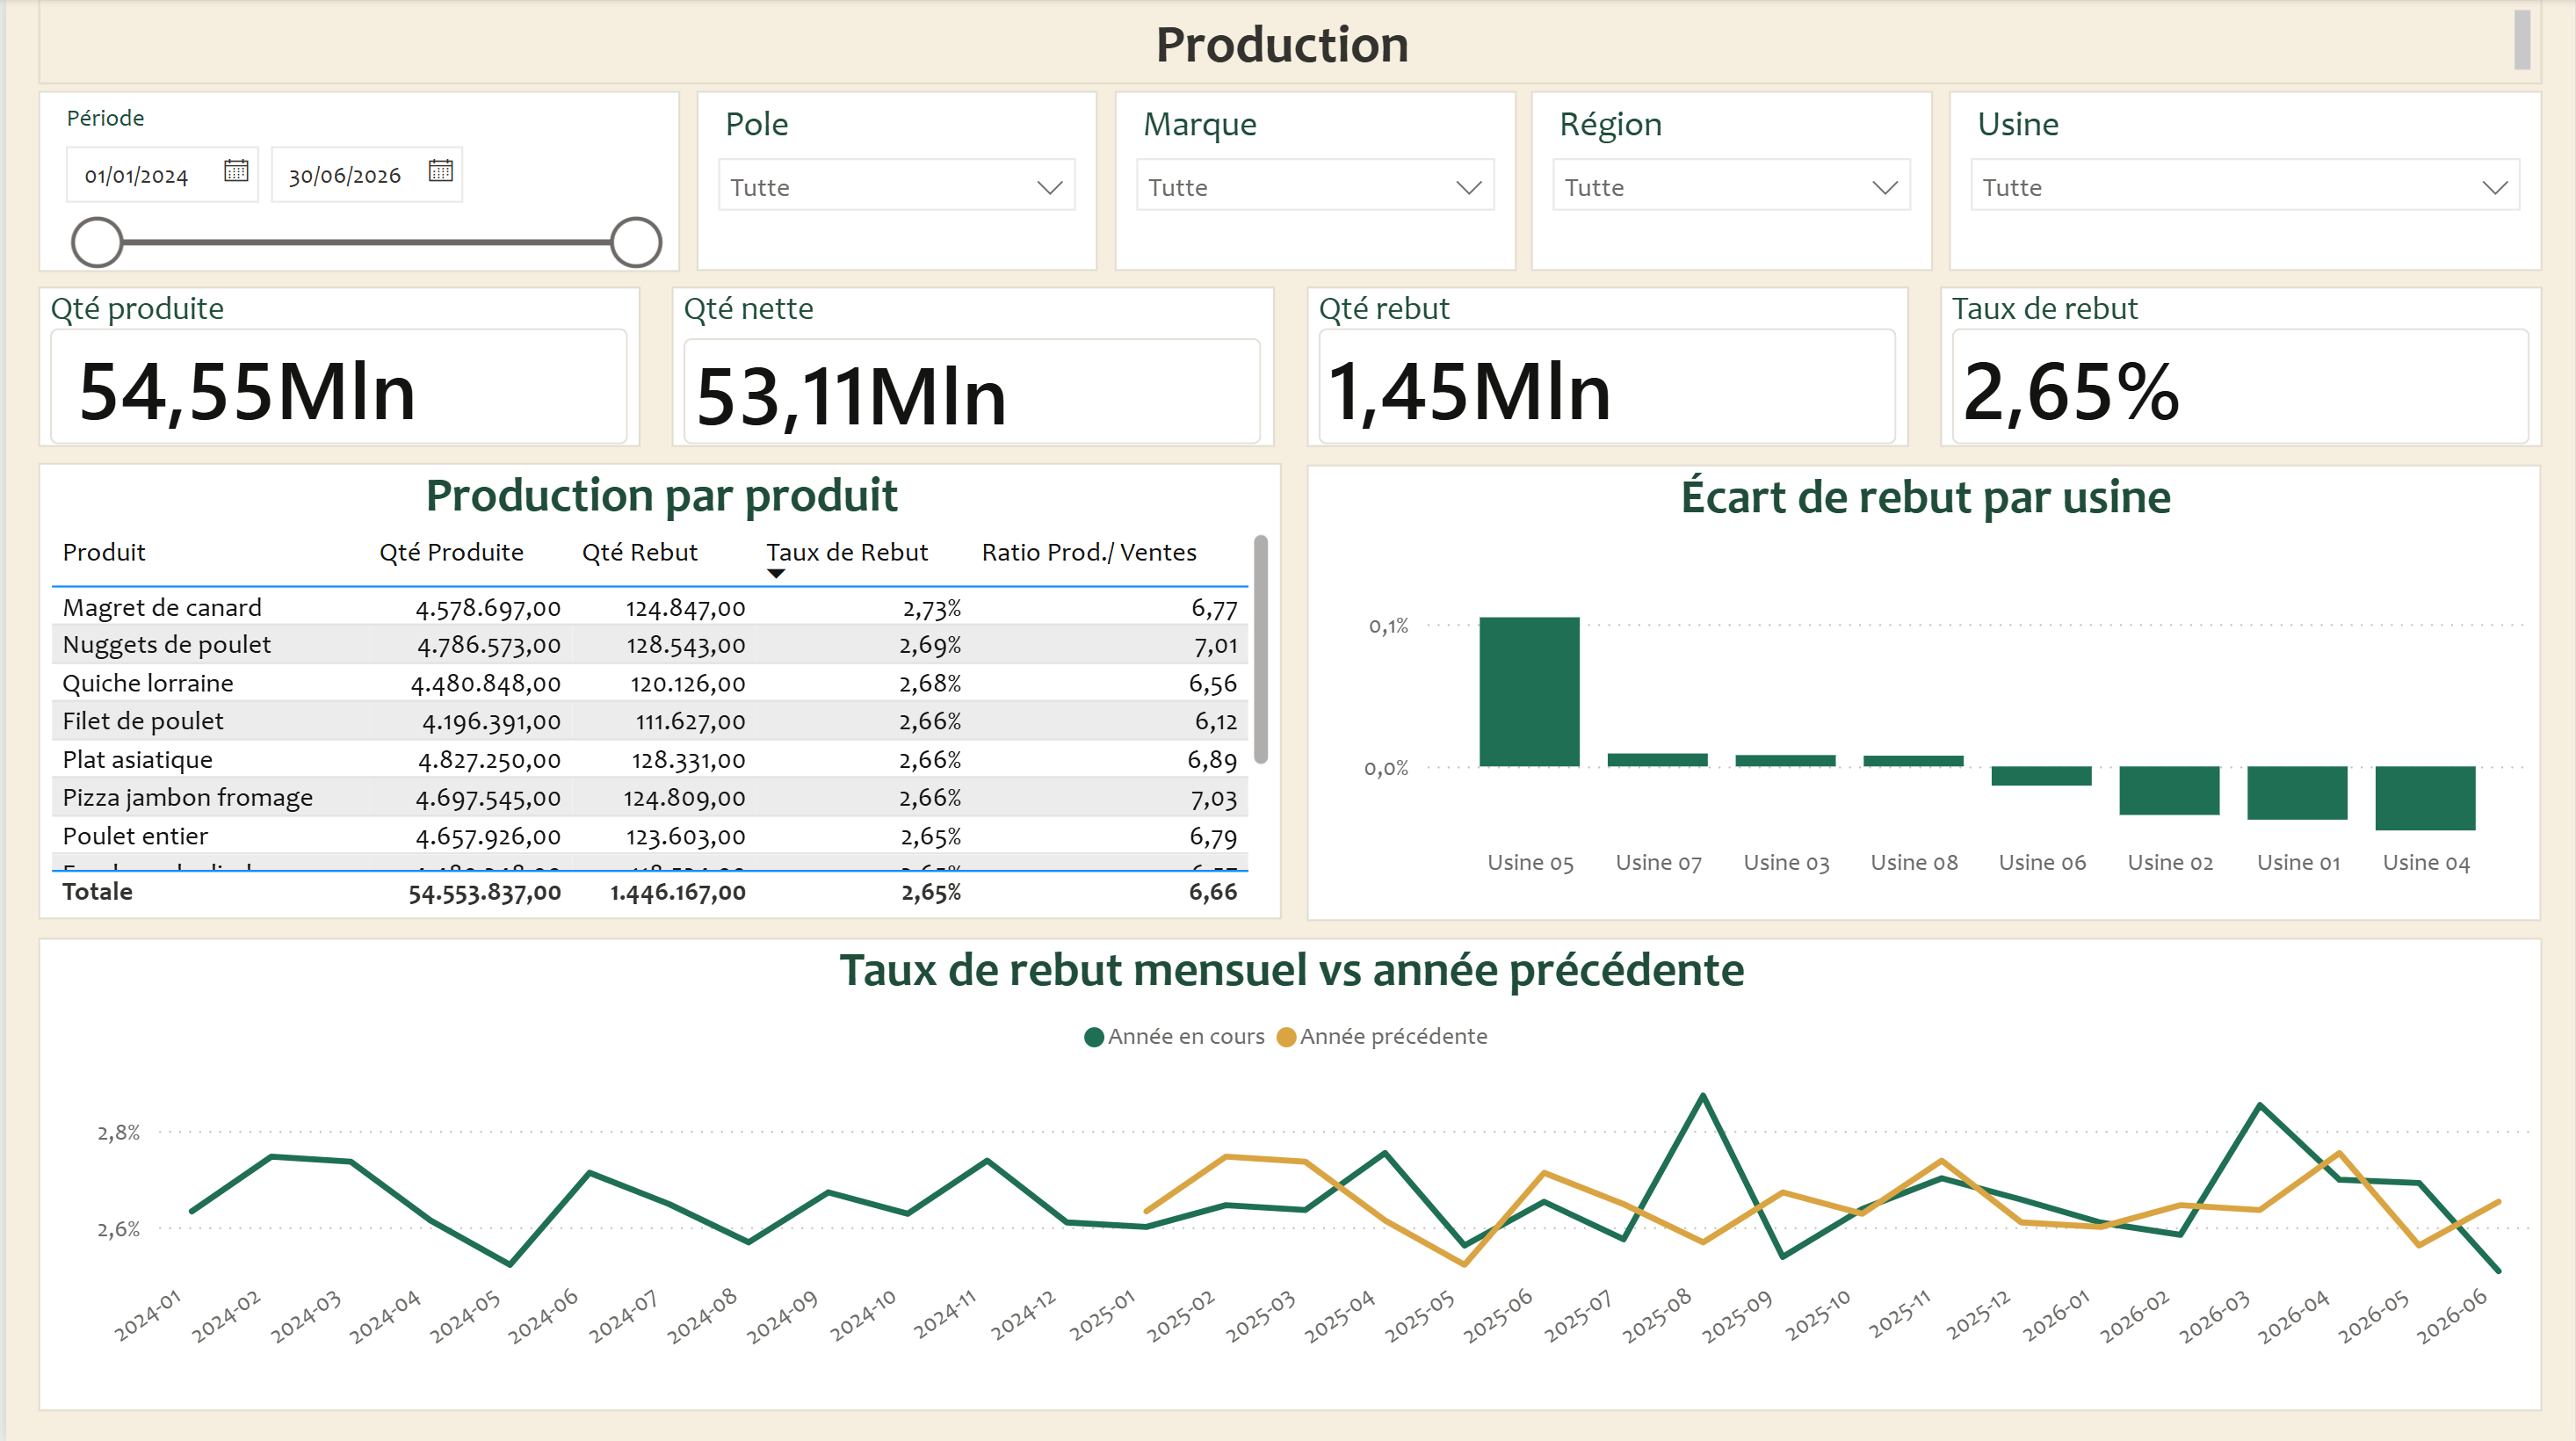

What the dashboard file says about the page in this screenshot:
{"tool":"powerbi","page":{"name":"Production","canvas":[1280,720],"ordinal":2},"visuals":[{"type":"textbox","box":[16,0,1248,43],"z":0},{"type":"slicer","fields":{"Values":["dim_date.Date"]},"box":[16,46.1,320,90.4],"z":1000},{"type":"slicer","fields":{"Values":["dim_produit.pole"]},"box":[344,46,200,90],"z":2000},{"type":"slicer","fields":{"Values":["dim_produit.marque"]},"box":[552,46,200.4,90],"z":3000},{"type":"slicer","fields":{"Values":["dim_usine.region"]},"box":[760,46,200.4,90],"z":4000},{"type":"slicer","fields":{"Values":["dim_usine.nom_usine"]},"box":[968,46,296,90],"z":5000},{"type":"cardVisual","title":"Qté produite","fields":{"Data":["_Mesures.Qté Produite"]},"box":[16,143.6,300,80],"z":6000},{"type":"cardVisual","title":"Qté nette","fields":{"Data":["_Mesures.Qté Produite Nette"]},"box":[332,144,300.6,80],"z":7000},{"type":"cardVisual","title":"Qté rebut","fields":{"Data":["_Mesures.Qté Rebut"]},"box":[648,144,300,80],"z":8000},{"type":"cardVisual","title":"Taux de rebut","fields":{"Data":["_Mesures.Taux de Rebut %"]},"box":[964,144,300,80],"z":9000},{"type":"lineChart","title":"Taux de rebut mensuel vs année précédente","fields":{"Category":["dim_date.Année-Mois"],"Y":["_Mesures.Taux de Rebut %","_Mesures.Taux de Rebut % N-1"]},"box":[16,468,1248,236],"z":10000},{"type":"columnChart","title":"Écart de rebut par usine","fields":{"Category":["dim_usine.nom_usine"],"Y":["_Mesures.Écart Taux de Rebut vs Moy. Usines"]},"box":[648.1,232.3,615.3,227.8],"z":11000},{"type":"tableEx","title":"Production par produit","fields":{"Values":["dim_produit.libelle","_Mesures.Qté Produite","_Mesures.Qté Rebut","_Mesures.Taux de Rebut %","_Mesures.Ratio Production / Ventes"]},"box":[16,231.4,619.7,227.8],"z":12000}]}

Visuals, with their boxes in screenshot pixels (x1, y1, x2, y2), scaled from the page's 1280x720 canvas onto the 2576x1441 screenshot:
textbox: bbox=[33, 0, 2543, 86]
slicer - dim_date.Date: bbox=[33, 92, 677, 273]
slicer - dim_produit.pole: bbox=[692, 92, 1095, 272]
slicer - dim_produit.marque: bbox=[1111, 92, 1514, 272]
slicer - dim_usine.region: bbox=[1530, 92, 1933, 272]
slicer - dim_usine.nom_usine: bbox=[1948, 92, 2543, 272]
"Qté produite" cardVisual: bbox=[33, 287, 636, 447]
"Qté nette" cardVisual: bbox=[668, 288, 1273, 448]
"Qté rebut" cardVisual: bbox=[1304, 288, 1908, 448]
"Taux de rebut" cardVisual: bbox=[1940, 288, 2543, 448]
"Taux de rebut mensuel vs année précédente" lineChart: bbox=[33, 937, 2543, 1409]
"Écart de rebut par usine" columnChart: bbox=[1305, 465, 2543, 921]
"Production par produit" tableEx: bbox=[33, 463, 1279, 919]
